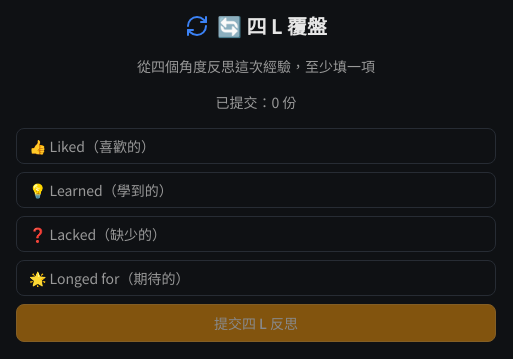
Test: FourLs › 只填一欄也可提交（OR 邏輯）
Type "團隊氣氛好" into the field with test id "fl-liked-input".
click(256, 146); type("團隊氣氛好")  # box [16,128,496,164]
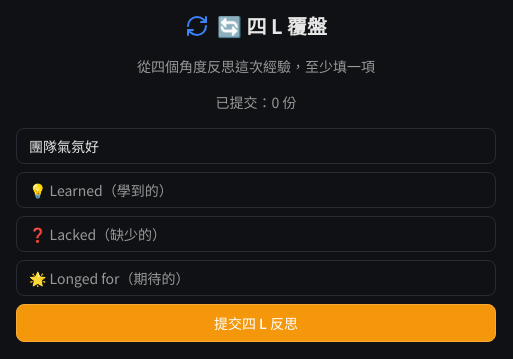
expect the button with test id "fl-submit-btn" is enabled: met, box [16,304,496,342]
